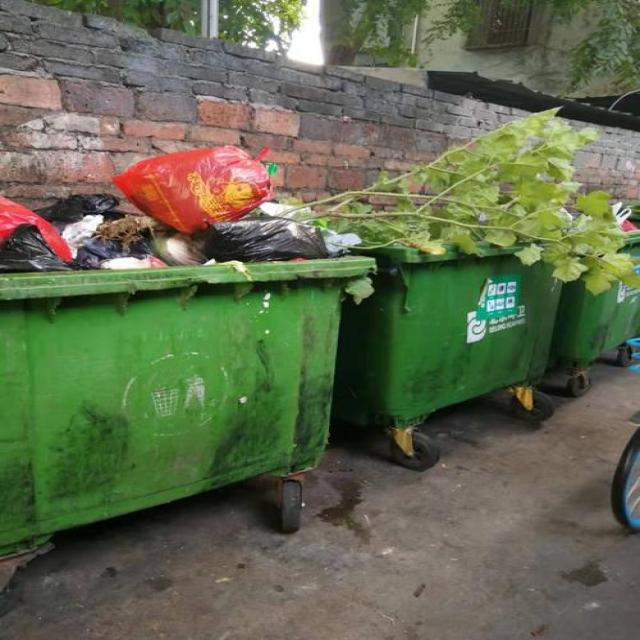overflow: (0, 142, 374, 557), (335, 104, 639, 419)
